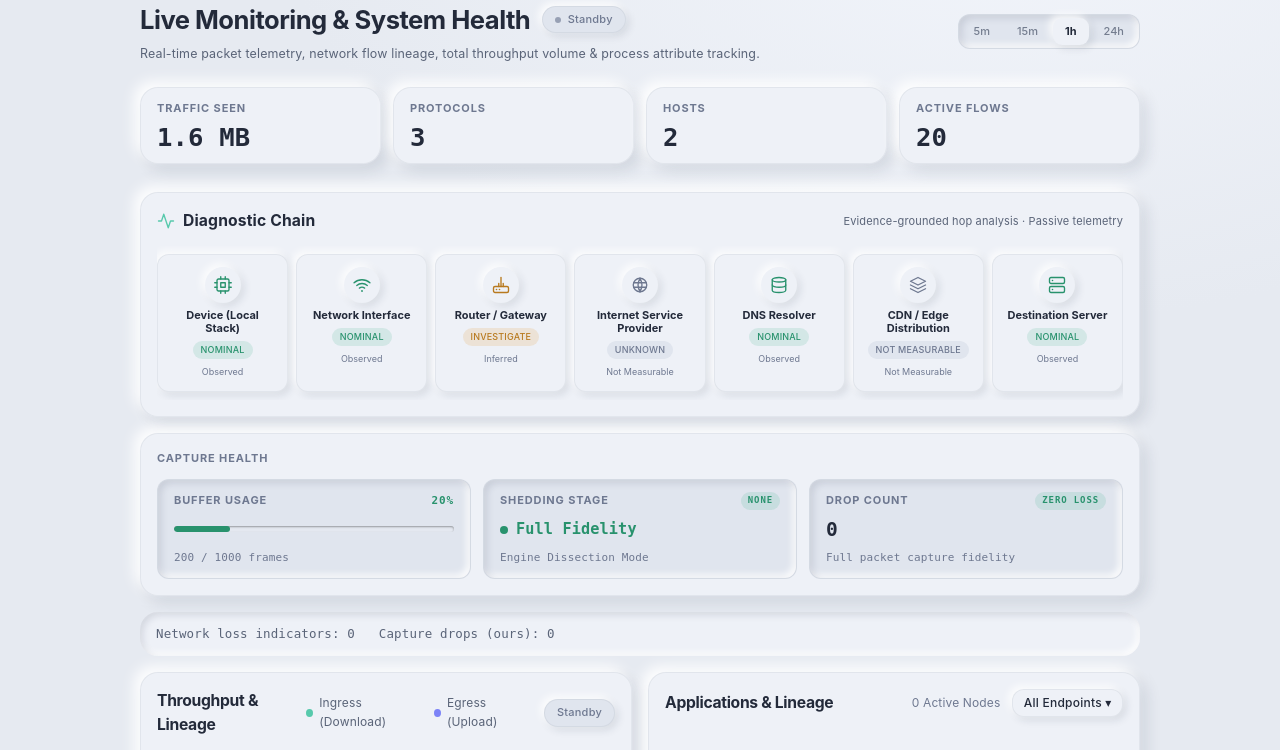
it: Monitoring Screen & useMonitoringController › renders the 7 diagnostic chain stages from the Rust backend and opens stage inspection drawer on click
Expected: the element labelled "Diagnostic Chain" is shown, [140,192,1140,417]
Expected: the text "Device (Local Stack)" is shown, [186,308,259,335]
Click on "Router / Gateway" stage node to open inspection drawer
Click the tab "Router / Gateway Investigate Inferred": (501, 323) [435,254,566,392]
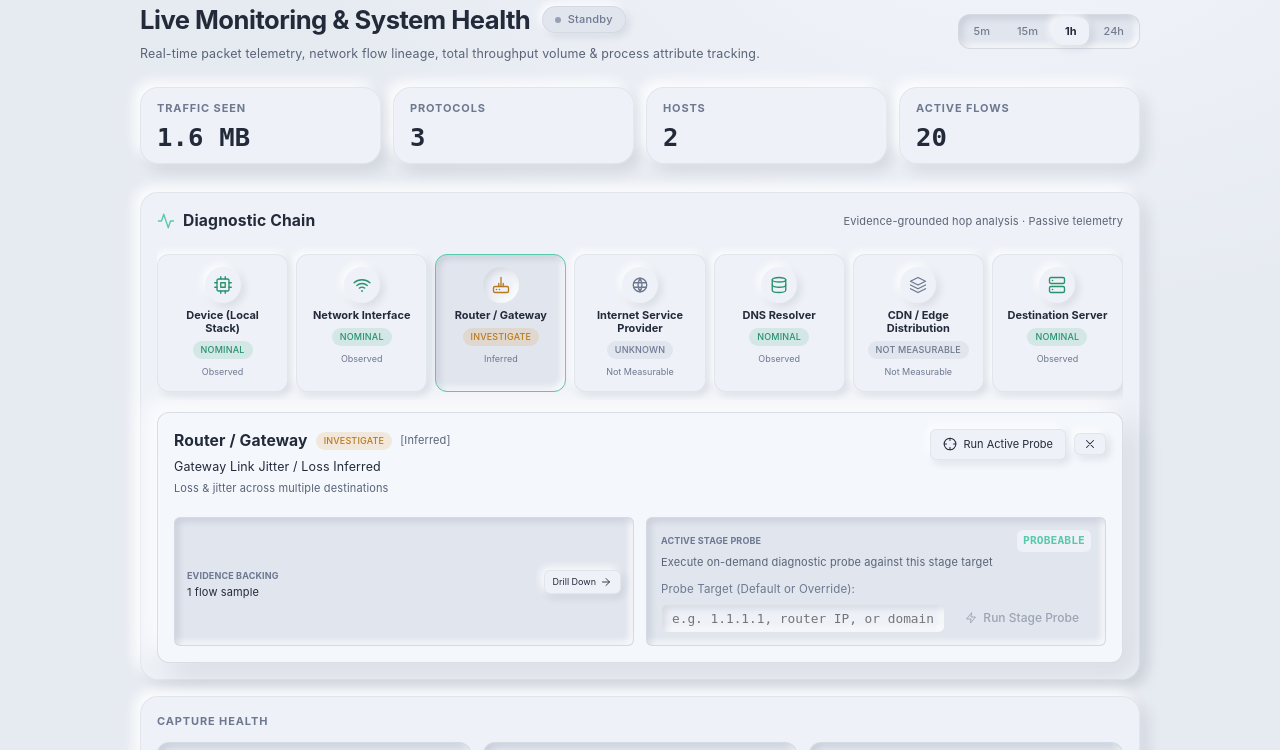
Expected: the element named "Router / Gateway Inspection" is shown, [157,412,1123,663]
Expected: the text "Gateway Link Jitter / Loss Inferred" is shown, [174,459,381,474]
Expected: the text "Loss & jitter across multiple destinations" is shown, [174,481,389,495]
